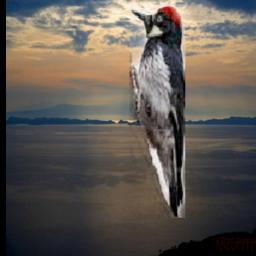Woodpecker: (129, 4, 185, 218)
